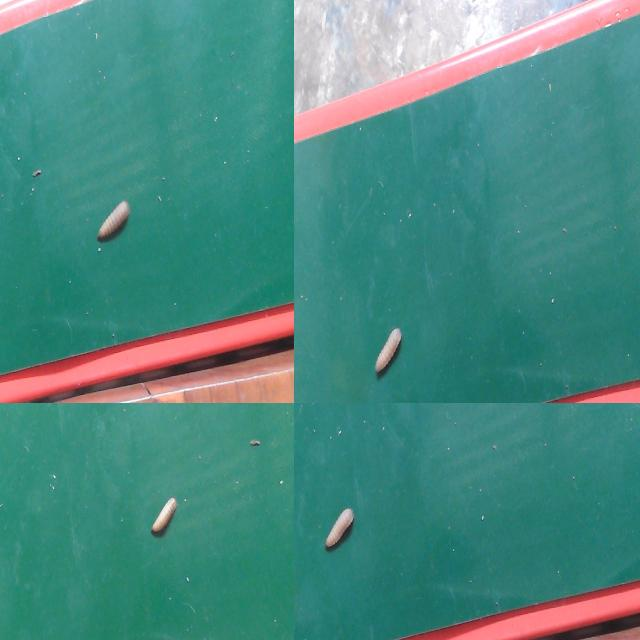Maggot: (373, 328, 403, 379), (96, 202, 129, 247), (324, 508, 354, 553), (151, 498, 179, 540)
